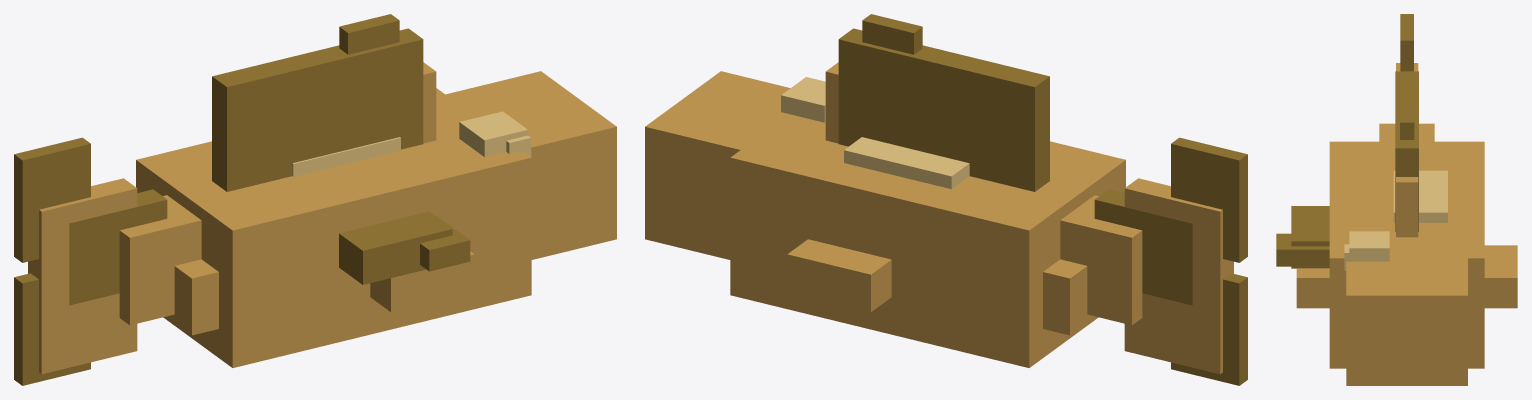
Rendered from fish_gilt_scad.glb.
The picture shows the model from 3 angles, left to right: view 1: azimuth 30°, elevation 25°; view 2: azimuth 150°, elevation 25°; view 3: azimuth 270°, elevation 25°; orthographic projection. The views are drawn at different scales.
Parts seen in each view (by area): view 1: FishArt_body, FishArt_dorsal, FishArt_tail, FishArt_pectoral, FishArt_eye, FishArt_specialty; view 2: FishArt_body, FishArt_dorsal, FishArt_tail, FishArt_specialty, FishArt_eye; view 3: FishArt_body, FishArt_pectoral, FishArt_dorsal, FishArt_specialty, FishArt_eye, FishArt_tail.
Part boxes in pixels (left/top/right/bottom): FishArt_body: left=28, top=62, right=616, bottom=374; FishArt_dorsal: left=212, top=14, right=423, bottom=191; FishArt_tail: left=14, top=137, right=167, bottom=385; FishArt_pectoral: left=339, top=211, right=470, bottom=284; FishArt_eye: left=459, top=111, right=531, bottom=156; FishArt_specialty: left=292, top=137, right=400, bottom=176; FishArt_body: left=645, top=62, right=1233, bottom=374; FishArt_dorsal: left=838, top=14, right=1049, bottom=191; FishArt_tail: left=1094, top=137, right=1247, bottom=385; FishArt_specialty: left=844, top=137, right=969, bottom=189; FishArt_eye: left=781, top=77, right=825, bottom=122; FishArt_body: left=1296, top=63, right=1517, bottom=385; FishArt_pectoral: left=1276, top=206, right=1329, bottom=268; FishArt_dorsal: left=1395, top=71, right=1418, bottom=231; FishArt_specialty: left=1393, top=170, right=1447, bottom=222; FishArt_eye: left=1344, top=231, right=1389, bottom=270; FishArt_tail: left=1400, top=14, right=1413, bottom=71.
Size of the model in its own units: 0.3091 by 0.1442 by 0.1439.
